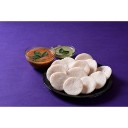idly: (49, 71, 69, 91), (64, 76, 82, 95), (80, 75, 96, 94), (91, 71, 106, 88), (98, 64, 112, 79), (75, 53, 93, 63), (53, 60, 68, 72)
